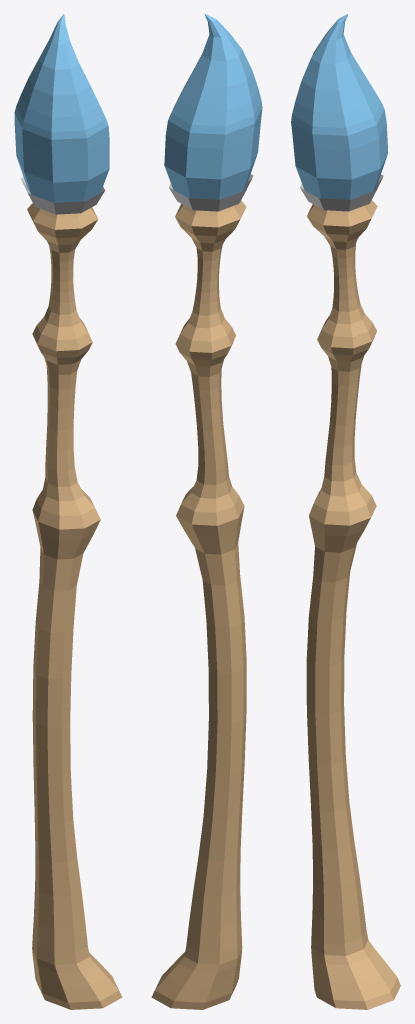
The model's file is Wand 1.obj.
The picture shows the model from 3 angles, left to right: view 1: azimuth 30°, elevation 25°; view 2: azimuth 150°, elevation 25°; view 3: azimuth 330°, elevation 25°; orthographic projection.
Visible parts, largest first — view 1: Staff_Cube.001, BigCrystal_Cube.003, Socket_Cube.002; view 2: Staff_Cube.001, BigCrystal_Cube.003, Socket_Cube.002; view 3: Staff_Cube.001, BigCrystal_Cube.003, Socket_Cube.002.
Boxes of the visible parts, left/top/right/bottom form: Staff_Cube.001: left=27, top=203, right=122, bottom=1009; BigCrystal_Cube.003: left=14, top=14, right=109, bottom=202; Socket_Cube.002: left=21, top=177, right=104, bottom=214; Staff_Cube.001: left=151, top=200, right=246, bottom=1009; BigCrystal_Cube.003: left=164, top=14, right=262, bottom=199; Socket_Cube.002: left=169, top=174, right=253, bottom=211; Staff_Cube.001: left=306, top=200, right=400, bottom=1009; BigCrystal_Cube.003: left=291, top=14, right=388, bottom=199; Socket_Cube.002: left=300, top=174, right=383, bottom=211.
Size of the model in its own units: 0.1702 by 1.69 by 0.1626.
4 materials, 3 textured.
